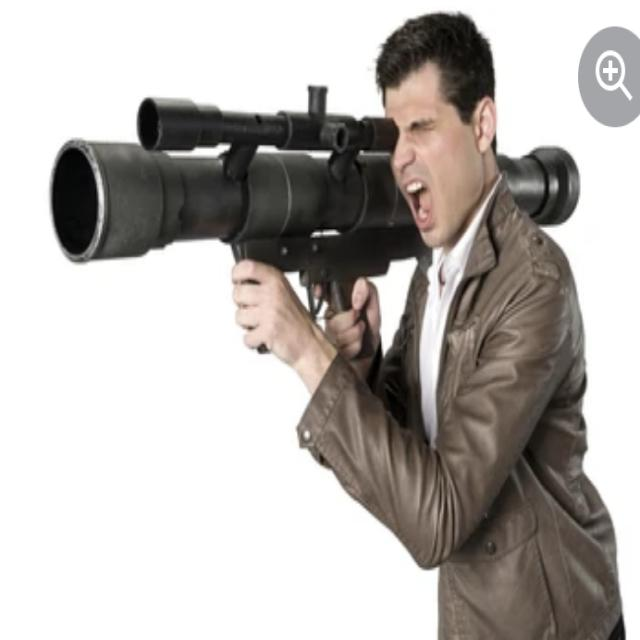bazooka: (30, 56, 613, 390)
